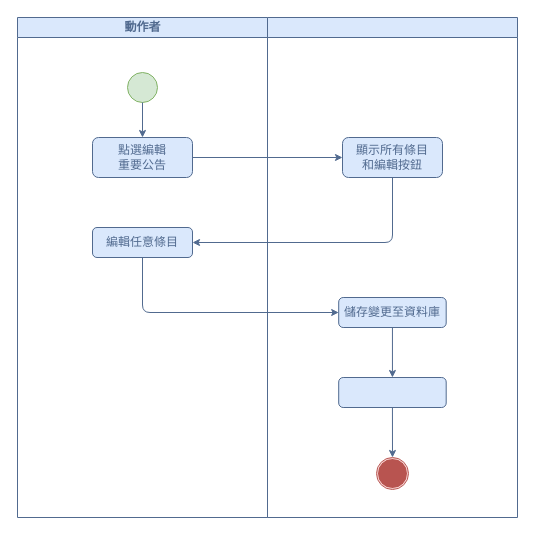
Some shapes in this 535 by 535 pixel diagram are drawn without their labels. Each missing label, with the box of its shape:
更新變更於首頁: (338, 376, 446, 408)
系統: (266, 16, 518, 518)
